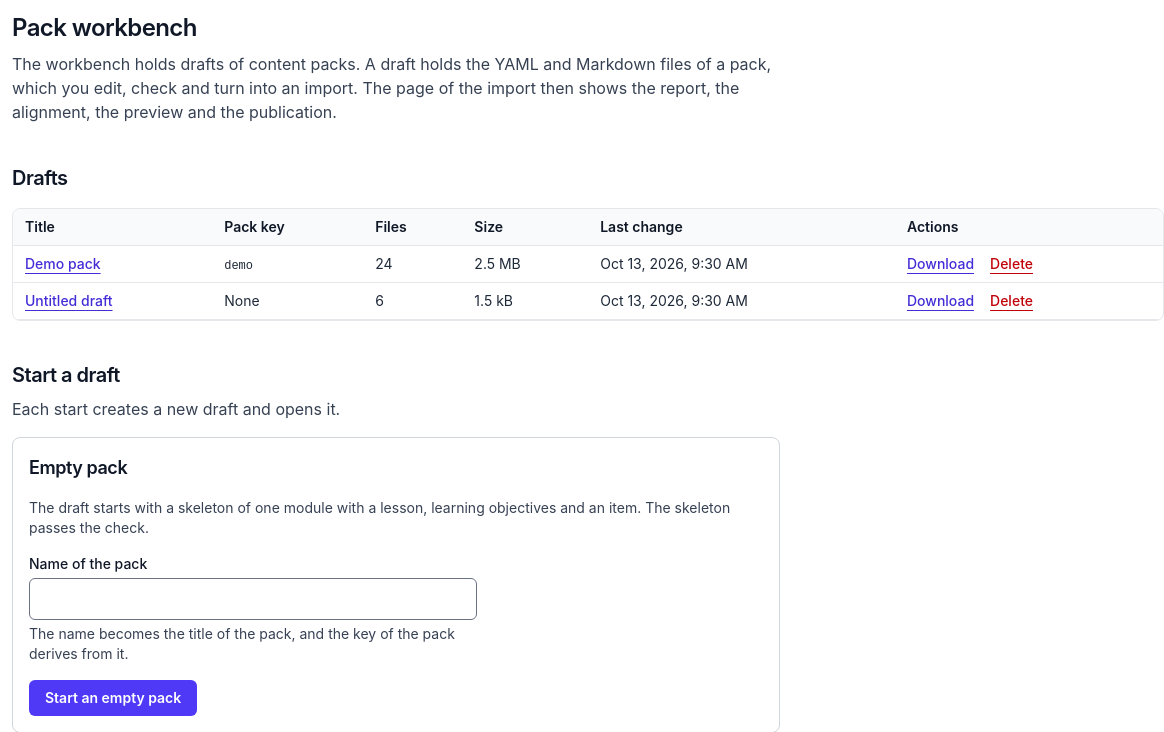
Scenario: the download of a draft › a draft that is gone names the failure and reads the list again
This screenshot has width=1164, height=732.
Click the link named "Download Demo pack": {"x": 941, "y": 264} [907,254,974,274]
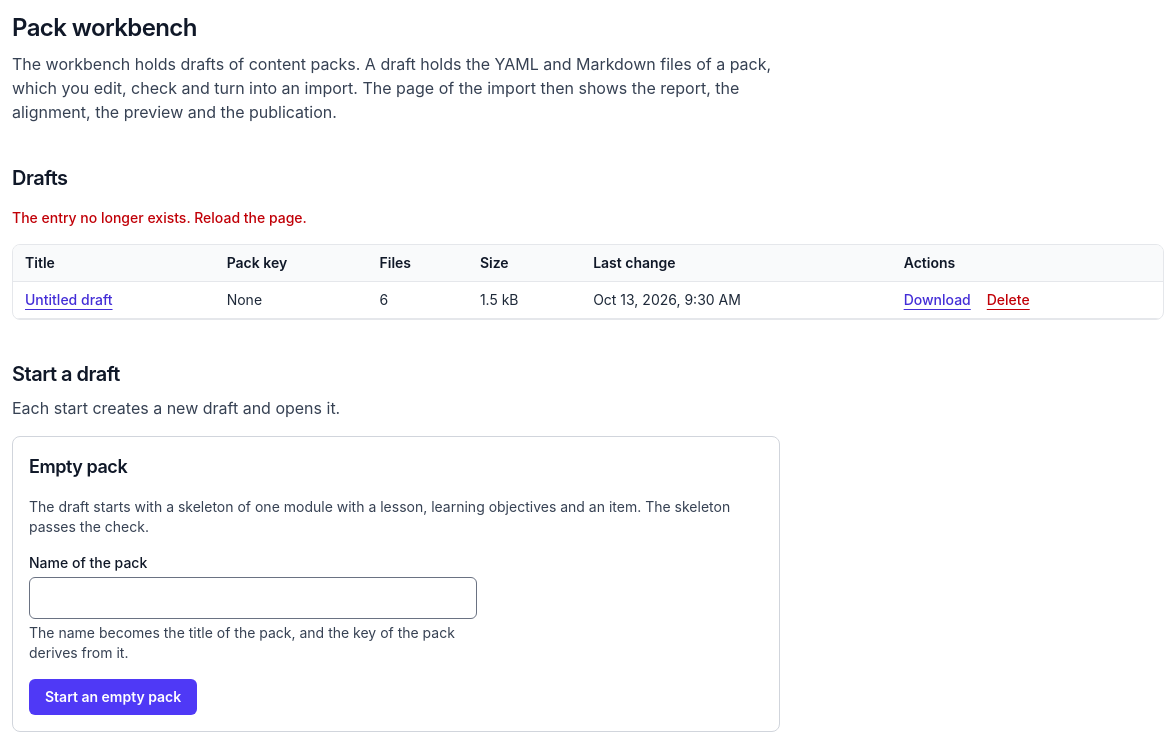
Expected: the text "The entry no longer exists. Reload the page." is shown, [12,209,307,226]
Expected: the link "Demo pack" is gone
